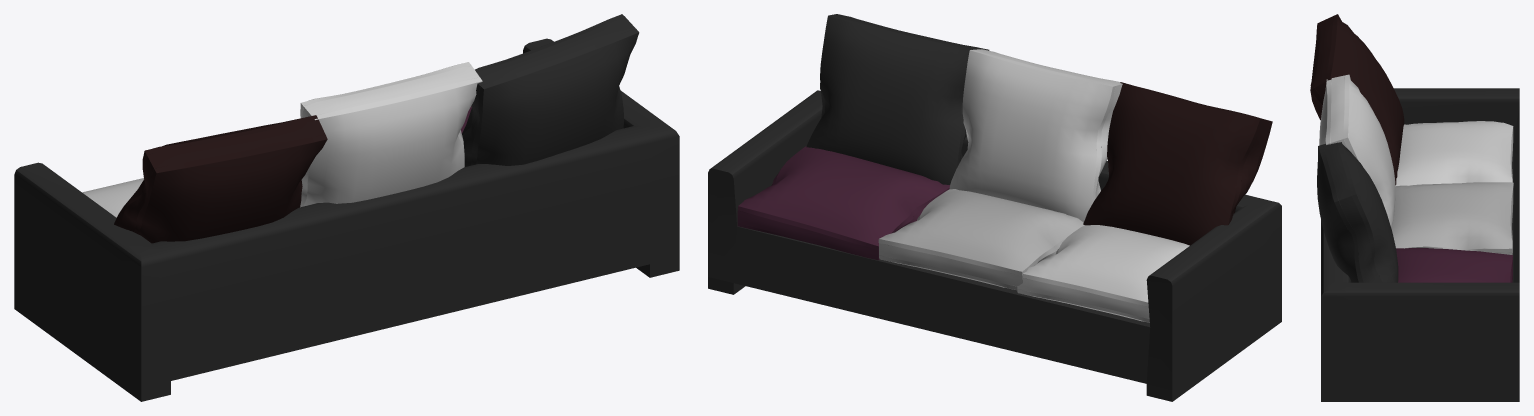
File: Sofá.fbx
3 renders of one model, left to right at view 1: azimuth 30°, elevation 25°; view 2: azimuth 150°, elevation 25°; view 3: azimuth 270°, elevation 25°, orthographic. The views are drawn at different scales.
Parts seen in each view (by area): view 1: Sofa; view 2: Sofa; view 3: Sofa.
Part boxes in pixels (x1=…): Sofa: x1=14, y1=14, x2=679, y2=401; Sofa: x1=708, y1=14, x2=1281, y2=401; Sofa: x1=1310, y1=14, x2=1519, y2=401.
Bounding box in the file's own units: 198 × 87.43 × 85.27.
